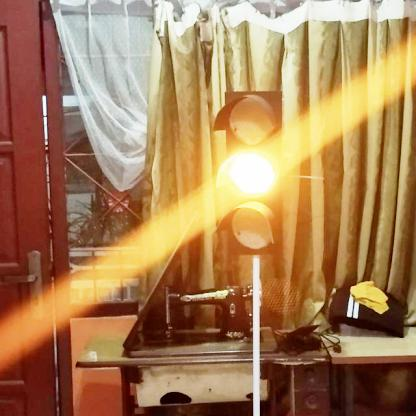Traffic Light -Yellow-: (213, 90, 282, 252)
